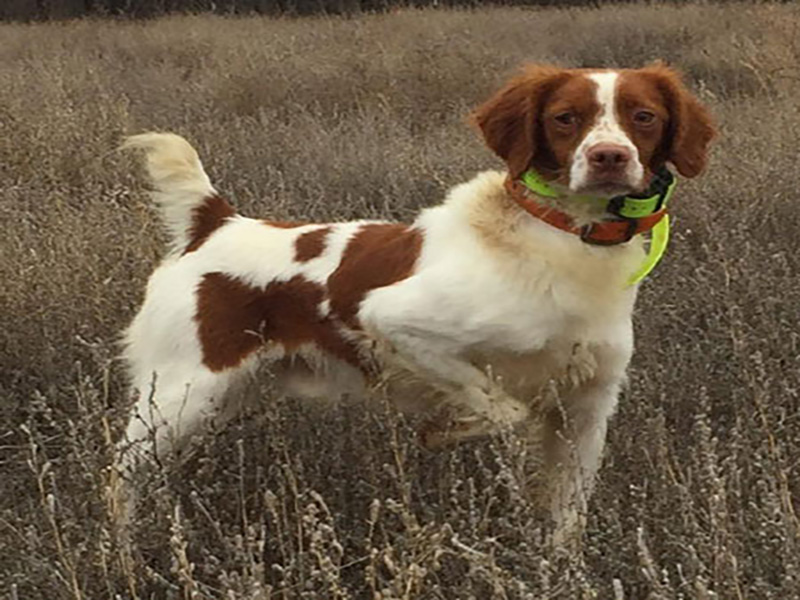cane da caccia: (106, 38, 709, 564)
